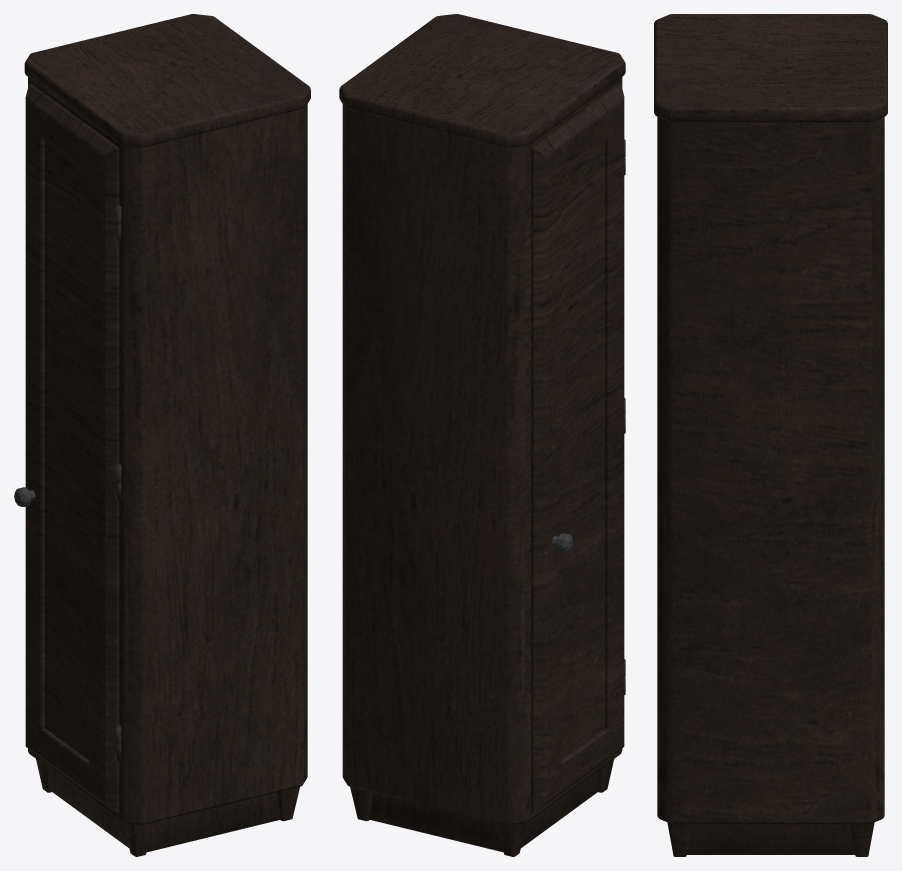
The model's file is wardrobe_9.obj.
3 views of the same model, side by side, from view 1: azimuth 30°, elevation 25°; view 2: azimuth 150°, elevation 25°; view 3: azimuth 270°, elevation 25° (orthographic). The views are drawn at different scales.
Parts seen in each view (by area): view 1: wardrobe_9, wardrobe_8_door; view 2: wardrobe_9, wardrobe_8_door; view 3: wardrobe_9.
Part boxes in pixels (x1,y1,x2,y2): wardrobe_9: (24, 14, 310, 856); wardrobe_8_door: (14, 84, 121, 813); wardrobe_9: (339, 14, 625, 856); wardrobe_8_door: (531, 84, 625, 813); wardrobe_9: (654, 14, 887, 856).
Size of the model in its own units: 0.79 by 2.57 by 0.72.
